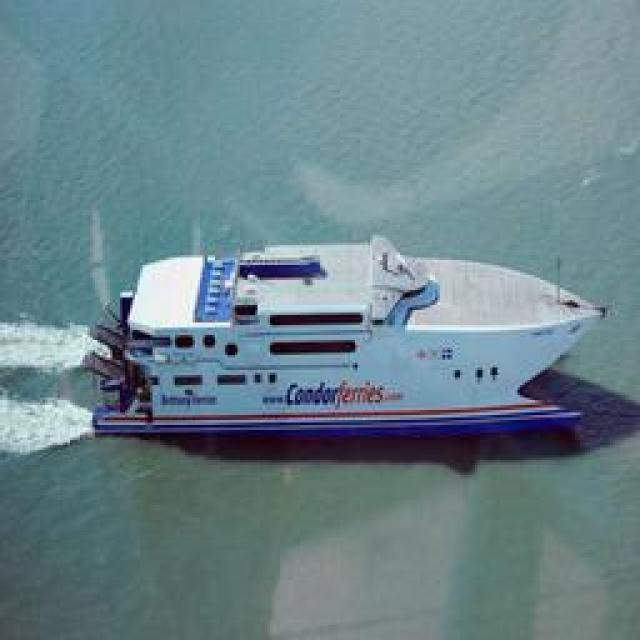CIV_Ship: (89, 238, 609, 432)
